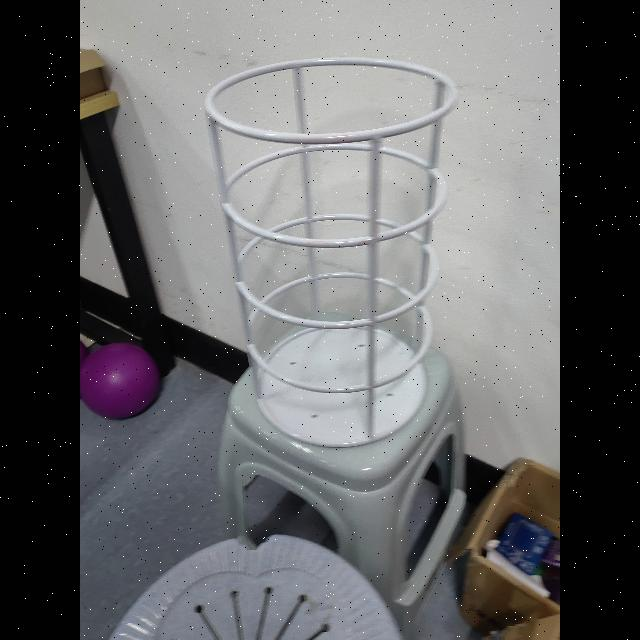S: (198, 52, 462, 454)
